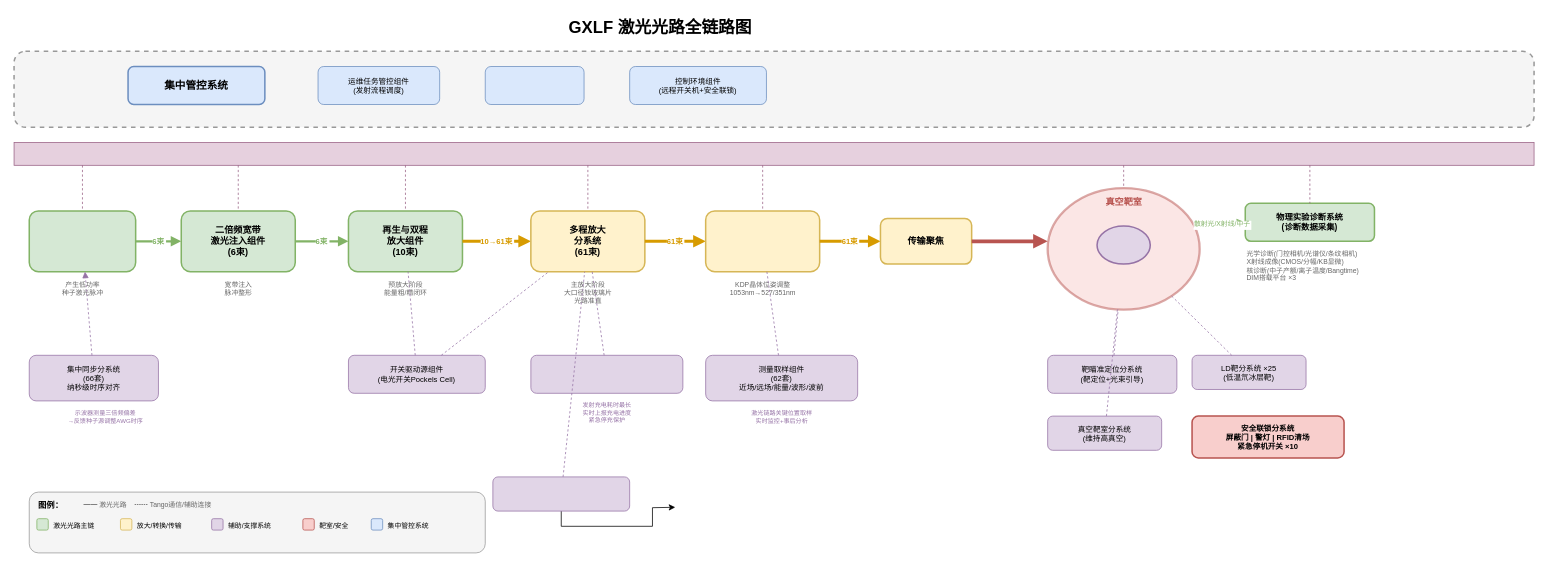
The diagram is 1547 pixels wide and 566 high, and some of its shapes have lost their labels. The centre of each missing label's shape, as x and y in pixels:
"Tango 中间件通信层" belongs at point 773,153.
"光纤种子源 组件 (6束)" belongs at point 82,241.
"冷却/管路分系统 ×2 (片放吹扫 ~15min)" belongs at point 561,493.
"泵浦分系统 ×2 (闪光灯/二极管泵浦能源)" belongs at point 606,374.
"状态监控组件" belongs at point 534,85.
"靶丸 (μm)" belongs at point 1123,244.
"频率转换 分系统 (61束)" belongs at point 762,241.
